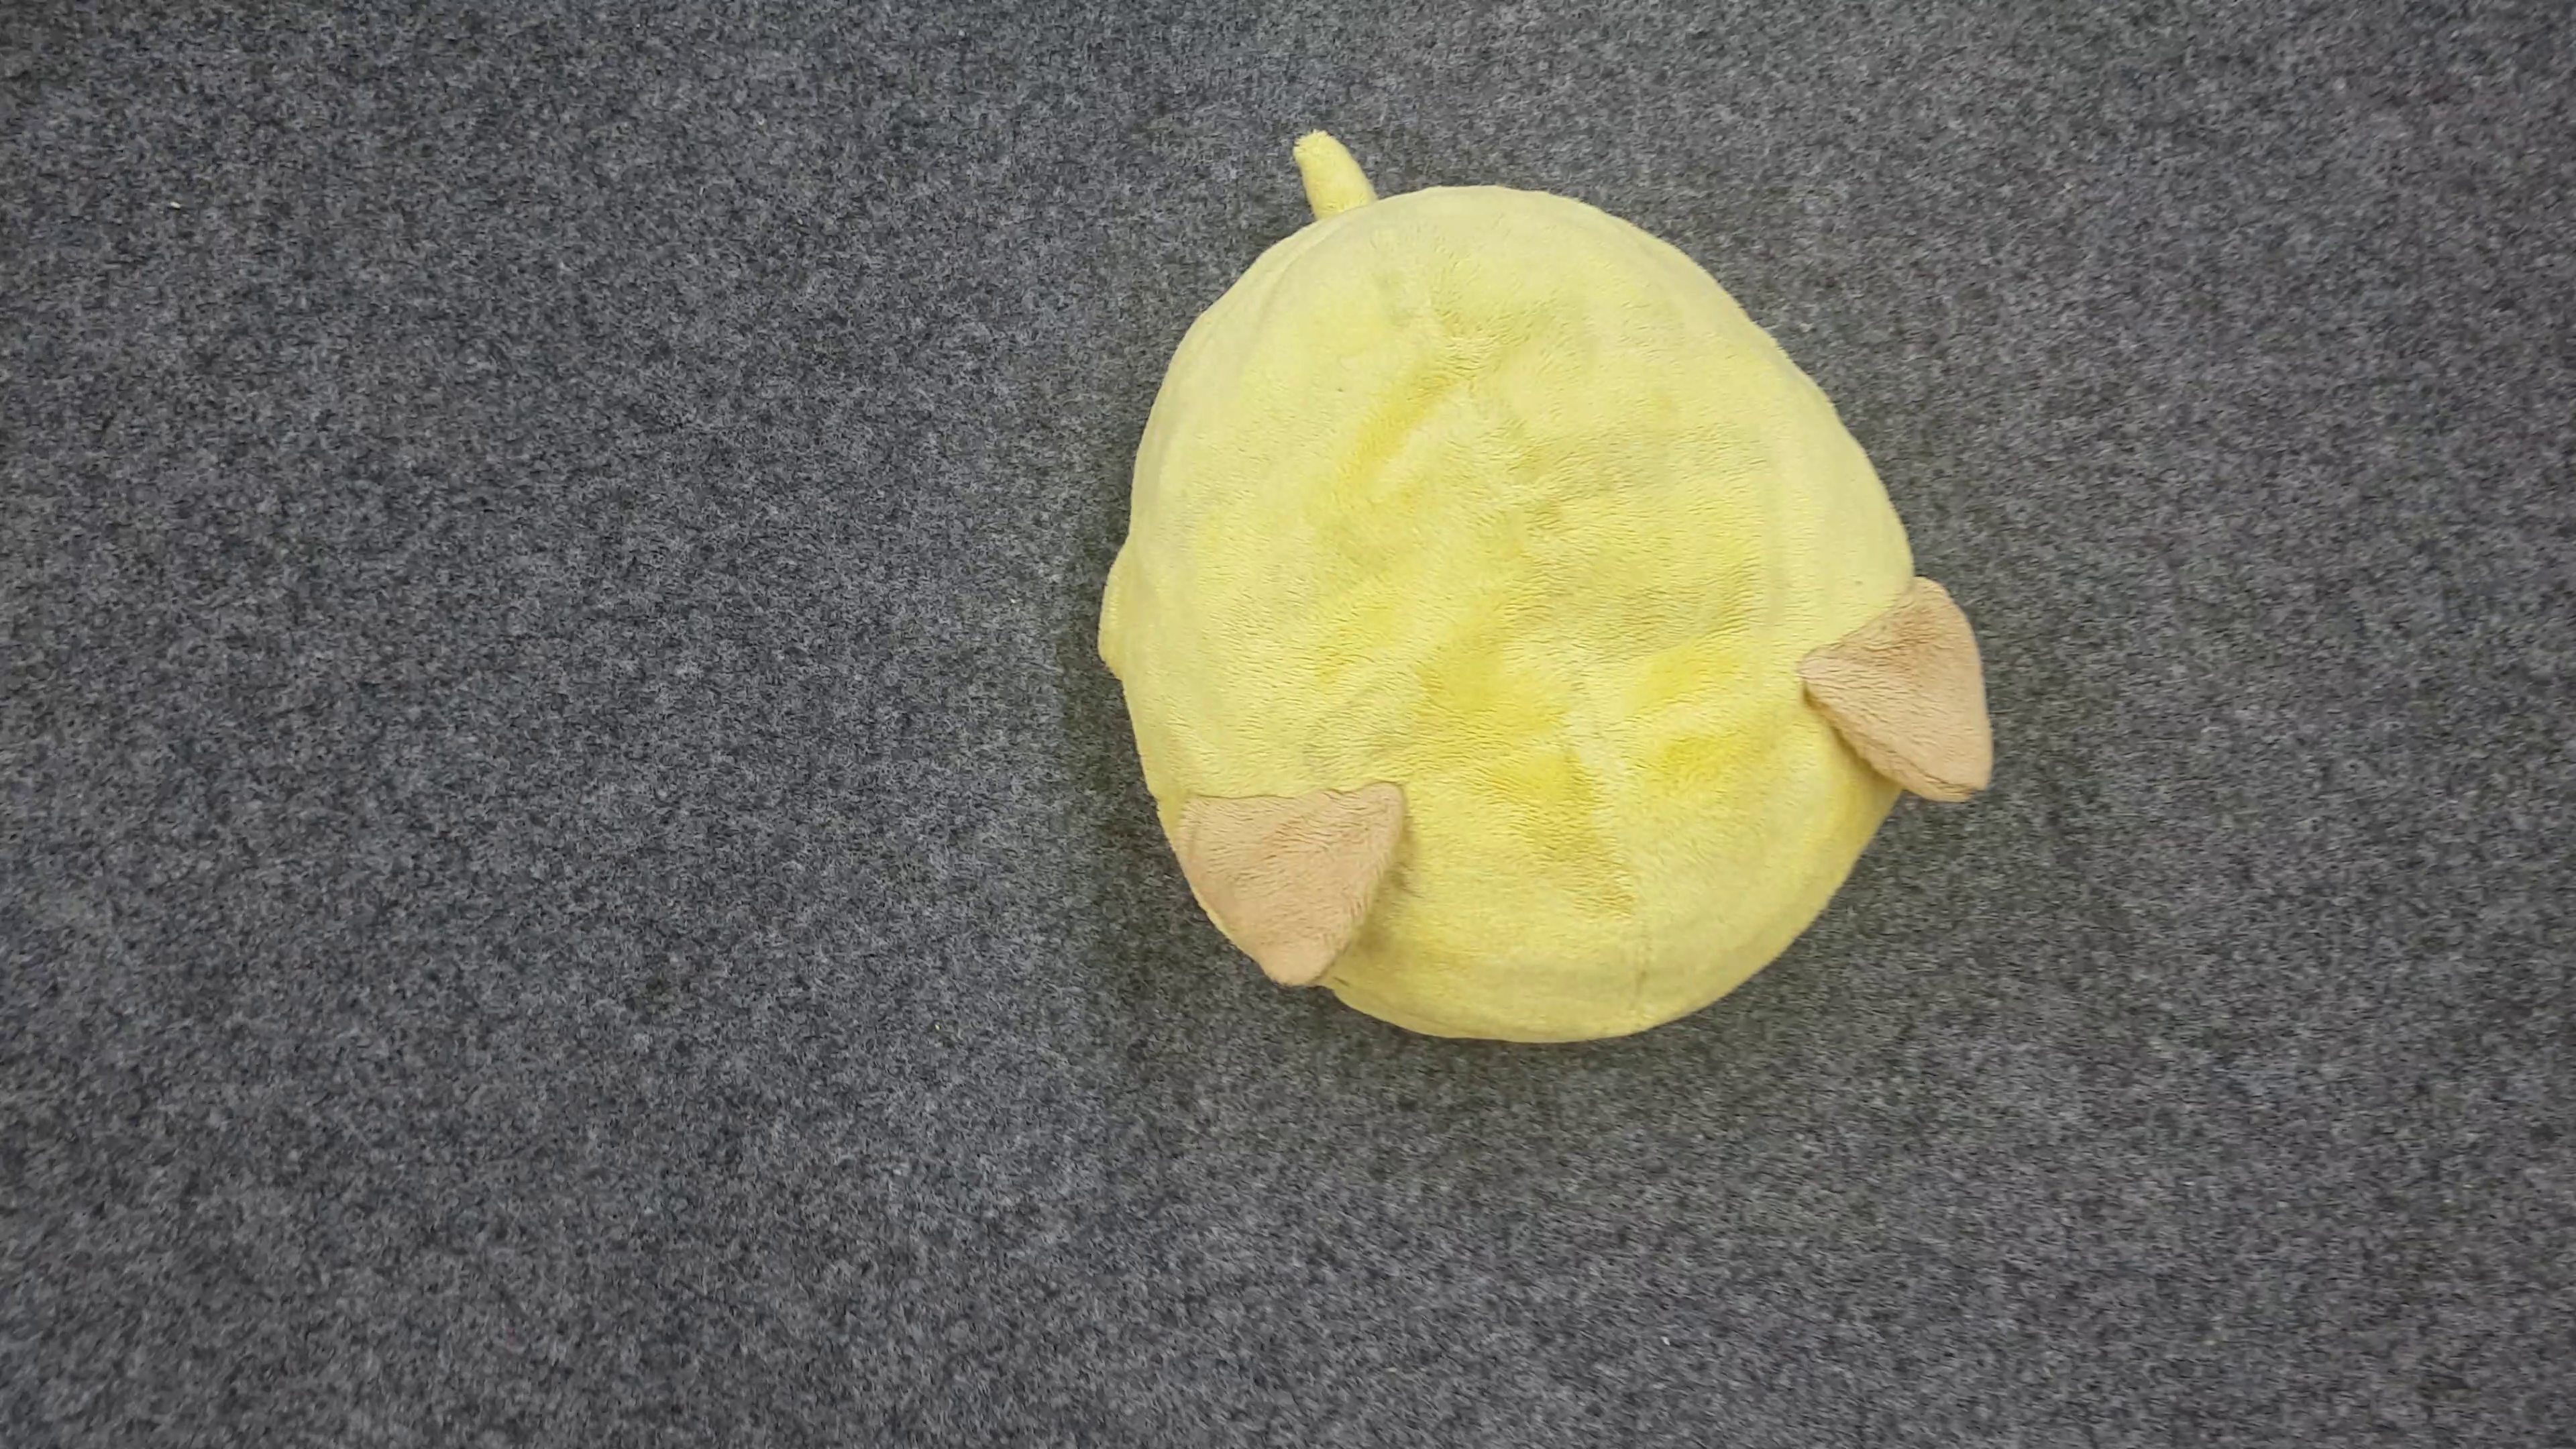grasp: (1093, 126, 2001, 1049)
